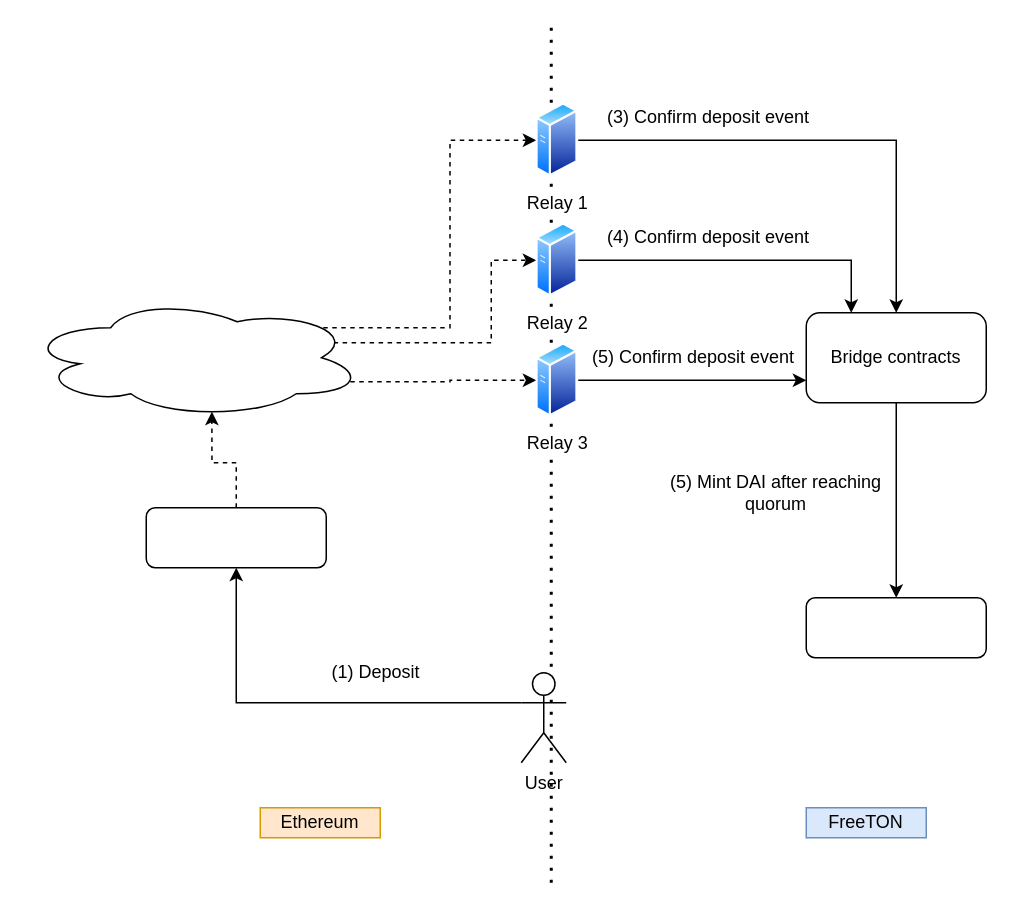
Some shapes in this 1013 by 911 pixel diagram are drawn without their labels. Here are the shapes that lost their labels. From the top down, the centre of each, then its label:
At point (194, 357): "(2) Deposit event".
At point (235, 537): "Dai Vault".
At point (895, 627): "Dai token".
